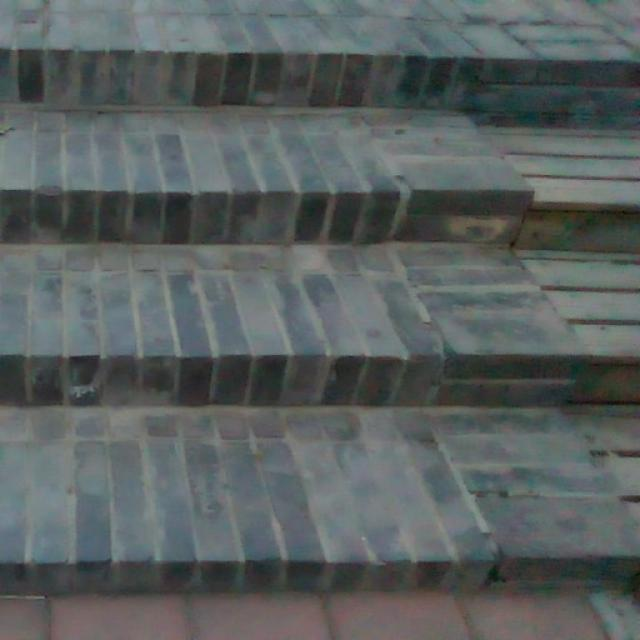Stairs: (0, 51, 639, 590)
